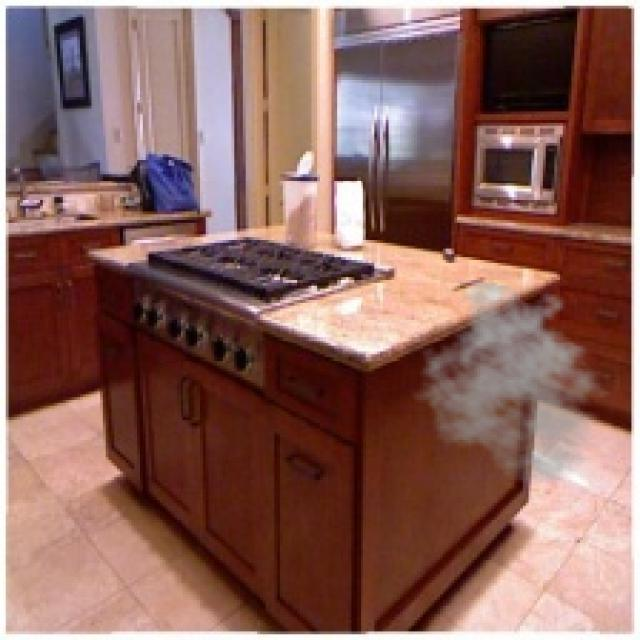smoke: (411, 277, 620, 486)
